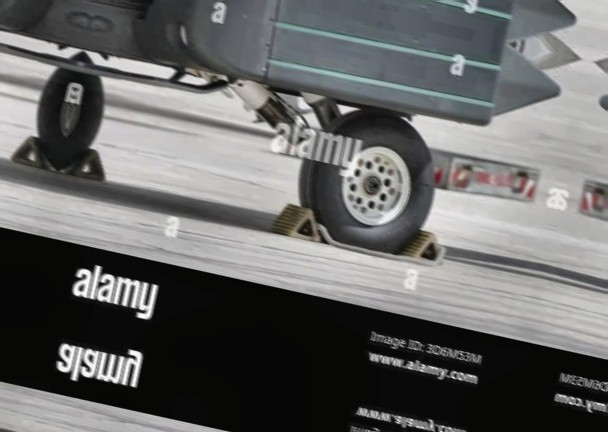chock: (394, 225, 451, 269), (270, 200, 327, 242), (60, 142, 113, 182), (9, 131, 61, 171)
wheel: (288, 96, 449, 258), (25, 58, 80, 167), (59, 66, 114, 175)
